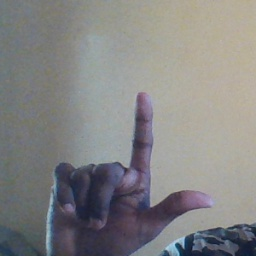L: (44, 90, 214, 253)
